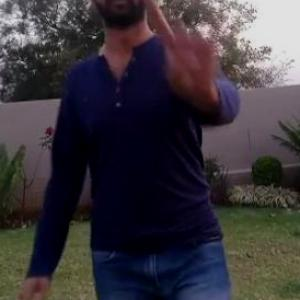takeoff-hand: (151, 0, 248, 85)
